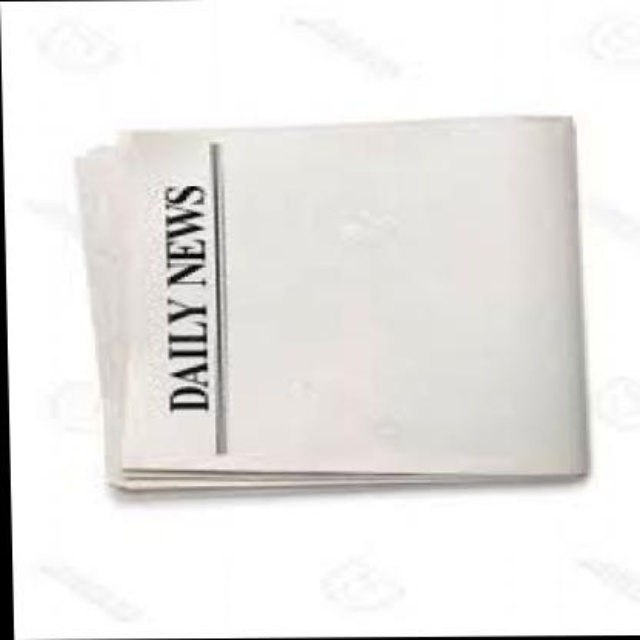trash: (78, 117, 586, 488)
